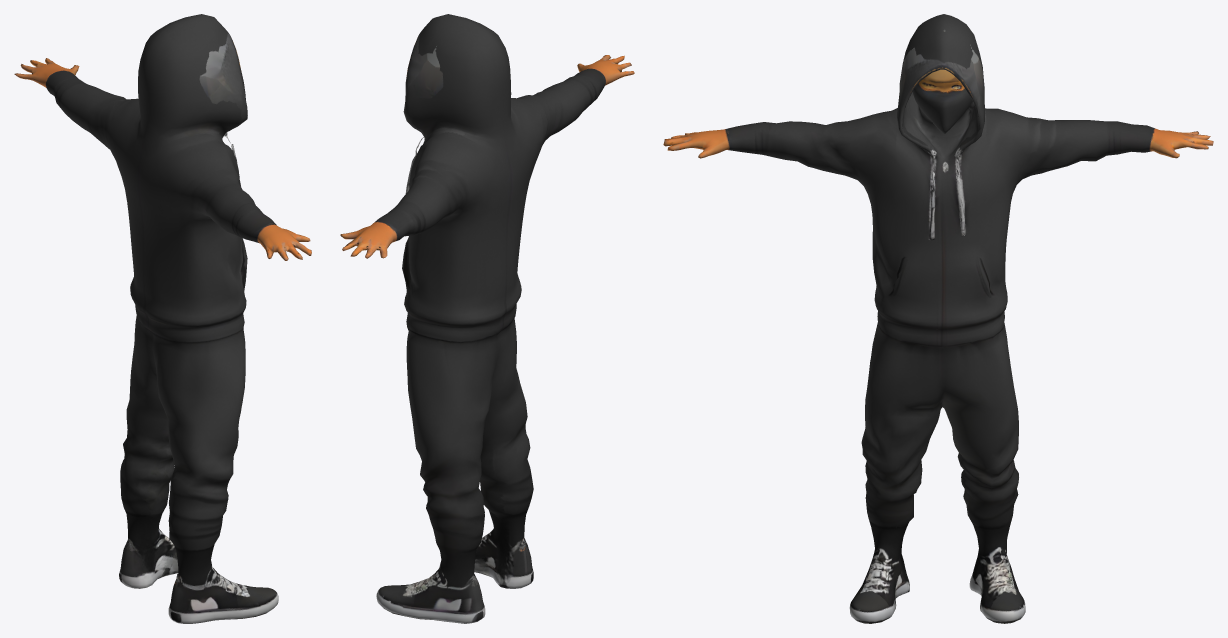
The model's file is ninja.fbx.
The picture shows the model from 3 angles, left to right: view 1: azimuth 30°, elevation 25°; view 2: azimuth 150°, elevation 25°; view 3: azimuth 270°, elevation 25°; orthographic projection. The views are drawn at different scales.
Visible parts, largest first — view 1: RETOPO; view 2: RETOPO; view 3: RETOPO.
Boxes of the visible parts, bbox=[...] form: RETOPO: bbox=[14, 14, 311, 623]; RETOPO: bbox=[340, 14, 634, 623]; RETOPO: bbox=[663, 14, 1213, 623].
Bounding box in the file's own units: 18.46 × 99.74 × 85.02.
1 material, 1 textured.
